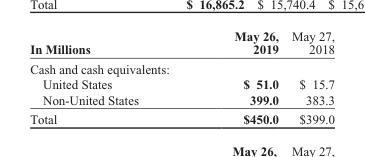table: (29, 28, 334, 126)
table column: (29, 28, 185, 126), (185, 28, 284, 126), (284, 28, 334, 126)
table column header: (29, 28, 334, 58)
table projected row header: (29, 58, 334, 76)
table row: (29, 28, 334, 58), (29, 58, 334, 76), (29, 91, 334, 109), (29, 109, 334, 126), (29, 76, 334, 91)
